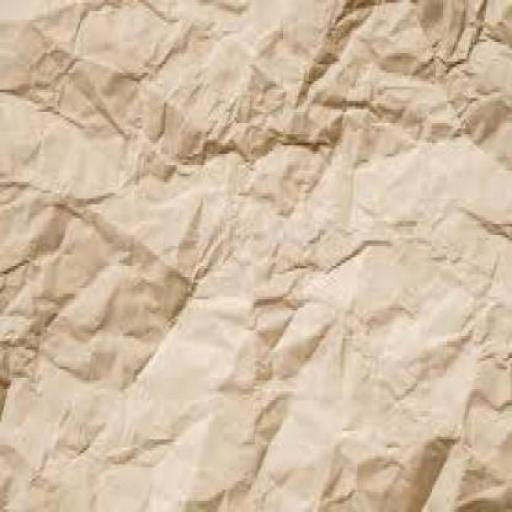metal: (0, 2, 511, 512)
